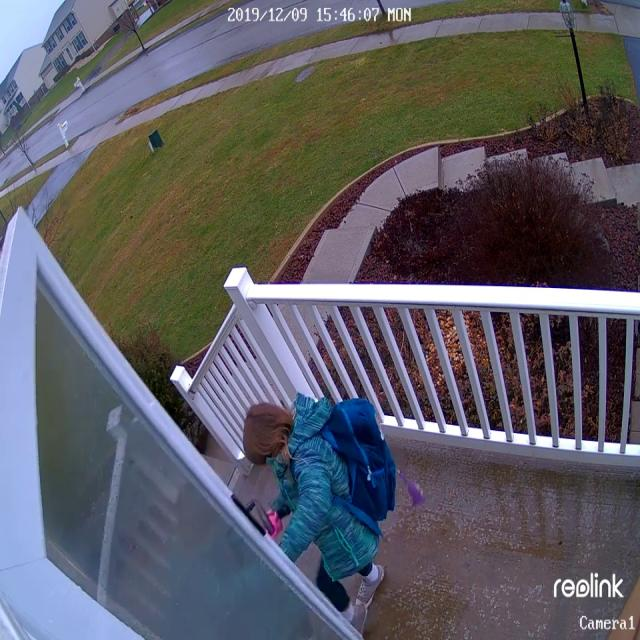child: (245, 397, 395, 637)
